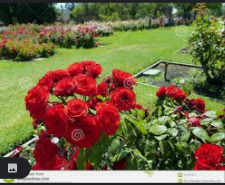RedRose: (194, 138, 224, 171), (31, 138, 69, 164), (42, 100, 67, 134), (93, 103, 120, 134), (70, 116, 96, 147), (21, 85, 49, 113), (115, 89, 139, 113), (110, 65, 134, 88), (156, 83, 184, 102), (72, 76, 96, 98), (80, 57, 105, 76), (56, 79, 77, 101), (69, 97, 87, 114), (190, 95, 207, 113), (36, 73, 53, 88)
